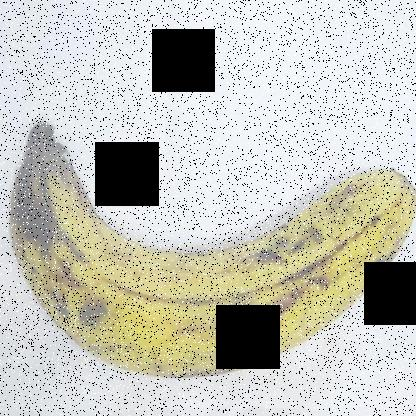overripe: (15, 92, 412, 387)
rotten: (1, 116, 104, 255)
